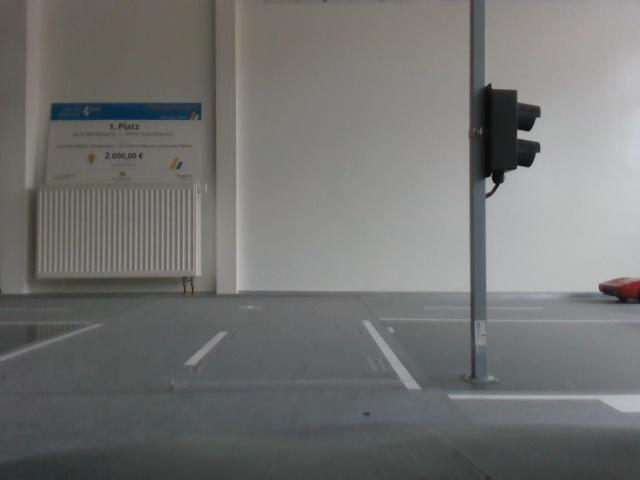car: (602, 266, 640, 308)
traffic light: (479, 80, 550, 190)
